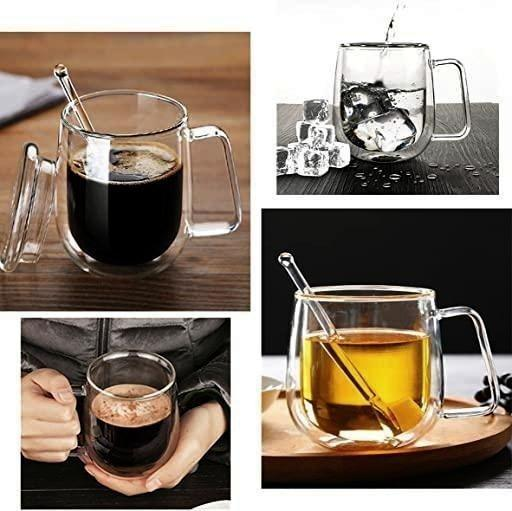glass-mug: (56, 86, 244, 293), (282, 278, 504, 453), (330, 35, 477, 169), (57, 348, 185, 483)
